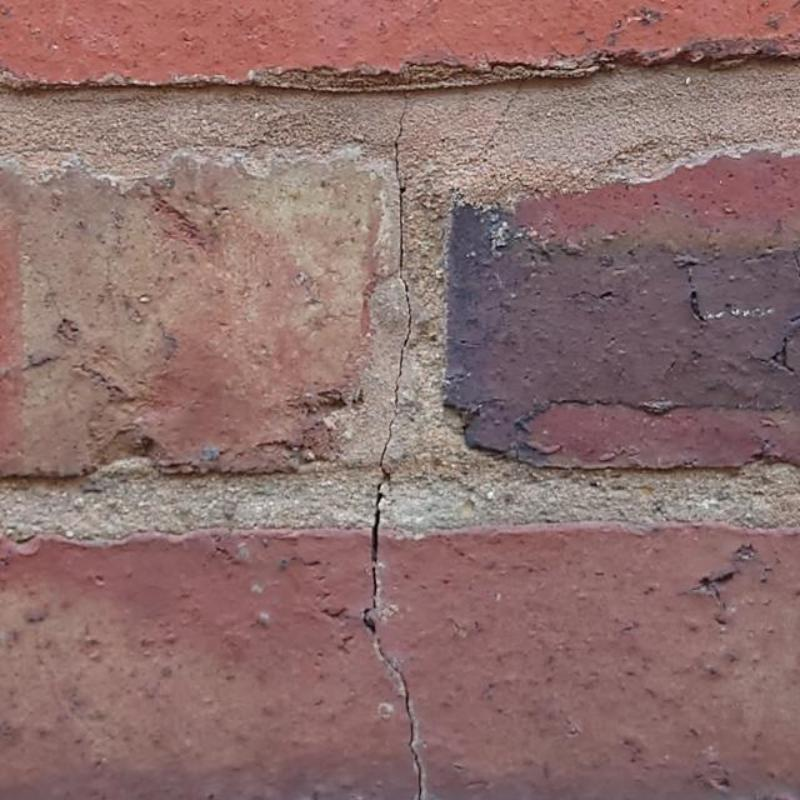crack: (362, 481, 428, 800), (378, 94, 413, 486)
